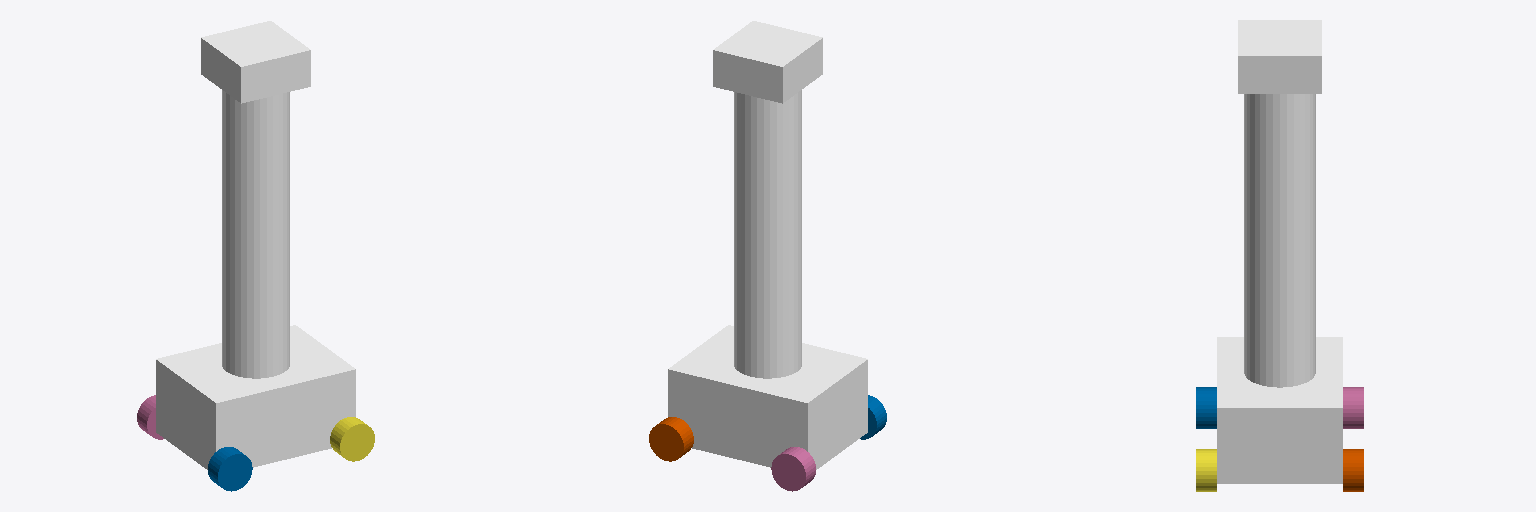
URDF robot description (test_bot):
<?xml version="1.0"?>

<robot name="test_bot">

<!--Materials-->
  <material name="blue">
    <color rgba="0 0 0.8 1"/>
  </material>
  <material name="black">
    <color rgba="0 0 0 1"/>
  </material>
  <material name="white">
    <color rgba="1 1 1 1"/>
  </material>

<!--Base-->
  <link name="base">
    <origin rpy="0 0 0" xyz="0 0 0"/>
    <visual>
      <geometry>
         <box size="0.4 0.3 0.2"/>
      </geometry>
      <origin rpy="0 0 0" xyz="0 0 0.125"/>
      <material name="white"/>
    </visual>
    <collision>
      <geometry>
         <box size="0.4 0.3 0.2"/>
      </geometry>
      <origin rpy="0 0 0" xyz="0 0 0.125"/>
    </collision>
    <inertial>
      <mass value="10"/>
      <inertia ixx="1.0" ixy="0.0" ixz="0.0" iyy="1.0" iyz="0.0" izz="1.0"/>
    </inertial>
  </link>

  <link name="uv_base">
    <origin rpy="0 0 0" xyz="0 0 0"/>
    <visual>
      <geometry>
         <cylinder length="1.0" radius="0.085"/>
      </geometry>
      <origin rpy="0 0 0" xyz="0 0 0"/>
      <material name="white"/>
    </visual>
    <collision>
      <geometry>
         <cylinder length="1.0" radius="0.085"/>
      </geometry>
      <origin rpy="0 0 0" xyz="0 0 0"/>
    </collision>
    <inertial>
      <mass value="10"/>
      <inertia ixx="1.0" ixy="0.0" ixz="0.0" iyy="1.0" iyz="0.0" izz="1.0"/>
    </inertial>
  </link>

  <joint name="uv_base_body" type="fixed">
    <parent link="base"/>
    <child link="uv_base"/>
    <origin rpy="0 0 0" xyz="0 0 0.6"/>
    <axis rpy="0 0 0" xyz="0 1 0"/>
    <dynamics damping="1.0" friction="1.0"/>
    <limit effort="10000" velocity="1000"/>
  </joint>

  <link name="uv_top">
    <origin rpy="0 0 0" xyz="0 0 0"/>
    <visual>
      <geometry>
         <box size="0.2 0.2 0.1"/>
      </geometry>
      <origin rpy="0 0 0" xyz="0 0 0"/>
      <material name="white"/>
    </visual>
    <collision>
      <geometry>
         <box size="0.4 0.3 0.2"/>
      </geometry>
      <origin rpy="0 0 0" xyz="0 0 0"/>
    </collision>
    <inertial>
      <mass value="10"/>
      <inertia ixx="1.0" ixy="0.0" ixz="0.0" iyy="1.0" iyz="0.0" izz="1.0"/>
    </inertial>
  </link>

  <joint name="uv_base_top" type="fixed">
    <parent link="uv_base"/>
    <child link="uv_top"/>
    <origin rpy="0 0 0" xyz="0 0 0.45"/>
    <axis rpy="0 0 0" xyz="0 1 0"/>
    <dynamics damping="1.0" friction="1.0"/>
    <limit effort="10000" velocity="1000"/>
  </joint>

<!--front_right_wheel-->
  <link name="front_right_wheel">
    <visual>
      <geometry>
      <cylinder length="0.05" radius="0.05"/>
      </geometry>
      <origin rpy="1.5707 0 0" xyz="0 0 0"/> 
    </visual>
    <collision>
      <geometry>
      <cylinder length="0.05" radius="0.05"/>
      </geometry>
      <origin rpy="1.5707 0 0" xyz="0 0 0"/> 
    </collision>
    <inertial>
      <mass value="5"/>
      <inertia ixx="0.14" ixy="0.0" ixz="0.0" iyy="0.14" iyz="0.0" izz="0.12"/>
      <origin rpy="1.5707 0 0" xyz="0 0 0"/> 
    </inertial>
  </link>

  <joint name="base_to_front_right_wheel" type="fixed">
    <parent link="base"/>
    <child link="front_right_wheel"/>
    <origin rpy="0 0 0" xyz="0.175 -0.175 0.05"/>
    <axis rpy="0 0 0" xyz="0 1 0"/>
    <dynamics damping="1.0" friction="1.0"/>
    <limit effort="10000" velocity="1000"/>
  </joint>

<!--back_right_wheel-->
  <link name="back_right_wheel">
    <visual>
      <geometry>
      <cylinder length="0.05" radius="0.05"/>
      </geometry>
      <origin rpy="1.5707 0 0" xyz="0 0 0"/> 
    </visual>
    <collision>
      <geometry>
      <cylinder length="0.05" radius="0.05"/>
      </geometry>
      <origin rpy="1.5707 0 0" xyz="0 0 0"/> 
    </collision>
    <inertial>
      <mass value="5"/>
      <inertia ixx="0.14" ixy="0.0" ixz="0.0" iyy="0.14" iyz="0.0" izz="0.12"/>
      <origin rpy="1.5707 0 0" xyz="0 0 0"/> 
    </inertial>
  </link>

  <joint name="base_to_back_right_wheel" type="fixed">
    <parent link="base"/>
    <child link="back_right_wheel"/>
    <origin rpy="0 0 0" xyz="-0.175 -0.175 0.05"/>
    <axis rpy="0 0 0" xyz="0 1 0"/>
    <dynamics damping="1.0" friction="1.0"/>
    <limit effort="10000" velocity="1000"/>
  </joint>

<!--front_left_wheel-->
  <link name="front_left_wheel">
    <visual>
      <geometry>
      <cylinder length="0.05" radius="0.05"/>
      </geometry>
      <origin rpy="1.5707 0 0" xyz="0 0 0"/> 
    </visual>
    <collision>
      <geometry>
      <cylinder length="0.05" radius="0.05"/>
      </geometry>
      <origin rpy="1.5707 0 0" xyz="0 0 0"/> 
    </collision>
    <inertial>
      <mass value="5"/>
      <inertia ixx="0.14" ixy="0.0" ixz="0.0" iyy="0.14" iyz="0.0" izz="0.12"/>
      <origin rpy="1.5707 0 0" xyz="0 0 0"/> 
    </inertial>
  </link>

  <joint name="base_to_front_left_wheel" type="fixed">
    <parent link="base"/>
    <child link="front_left_wheel"/>
    <origin rpy="0 0 0" xyz="0.175 0.175 0.05"/>
    <axis rpy="0 0 0" xyz="0 1 0"/>
    <dynamics damping="1.0" friction="1.0"/>
    <limit effort="10000" velocity="1000"/>
  </joint>

<!--back_left_wheel-->
  <link name="back_left_wheel">
    <visual>
      <geometry>
      <cylinder length="0.05" radius="0.05"/>
      </geometry>
      <origin rpy="1.5707 0 0" xyz="0 0 0"/> 
    </visual>
    <collision>
      <geometry>
      <cylinder length="0.05" radius="0.05"/>
      </geometry>
      <origin rpy="1.5707 0 0" xyz="0 0 0"/> 
    </collision>
    <inertial>
      <mass value="5"/>
      <inertia ixx="0.14" ixy="0.0" ixz="0.0" iyy="0.14" iyz="0.0" izz="0.12"/>
      <origin rpy="1.5707 0 0" xyz="0 0 0"/> 
    </inertial>
  </link>

  <joint name="base_to_back_left_wheel" type="fixed">
    <parent link="base"/>
    <child link="back_left_wheel"/>
    <origin rpy="0 0 0" xyz="-0.175 0.175 0.05"/>
    <axis rpy="0 0 0" xyz="0 1 0"/>
    <dynamics damping="1.0" friction="1.0"/>
    <limit effort="10000" velocity="1000"/>
  </joint>

<!--controller plugin-->
  <gazebo>
    <plugin name="object_controller" filename="libgazebo_ros_planar_move.so">
      <commandTopic>cmd_vel</commandTopic>
      <odometryTopic>odom</odometryTopic>
      <odometryFrame>odom</odometryFrame>
      <odometryRate>20.0</odometryRate>
      <robotBaseFrame>base</robotBaseFrame>
    </plugin>
  </gazebo>

<!--Camera-->
<link name="camera_link">
    <collision>
      <origin xyz="0 0 0" rpy="0 0 0"/>
      <geometry>
       <mesh filename="package://uvd_description/meshes/camera_link.stl"/>
      </geometry>
    </collision>
    <visual>
      <origin xyz="0 0 0" rpy="0 0 0"/>
      <geometry>
       <mesh filename="package://uvd_description/meshes/camera_link.stl"/>
      </geometry>
    </visual>
    <inertial>
      <mass value="1e-5" />
      <origin xyz="0 0 0" rpy="0 0 0"/>
      <inertia ixx="1e-6" ixy="0" ixz="0" iyy="1e-6" iyz="0" izz="1e-6" />
    </inertial>
  </link>
   
  <joint name="camera_joint" type="fixed">
    <parent link="uv_top"/>
    <child link="camera_link"/>
    <axis xyz="0 0 0" />
    <origin xyz="0.105 0 0" rpy="0 0 0"/>
  </joint>

<!--camera plugins-->
  <gazebo reference="camera_link">
    <sensor type="camera" name="camera1">
      <update_rate>30.0</update_rate>
      <camera name="head">
        <horizontal_fov>1.3962634</horizontal_fov>
        <image>
          <width>800</width>
          <height>800</height>
          <format>R8G8B8</format>
        </image>
        <clip>
          <near>0.02</near>
          <far>300</far>
        </clip>
        <noise>
          <type>gaussian</type>
          <!-- Noise is sampled independently per pixel on each frame.
               That pixel's noise value is added to each of its color
               channels, which at that point lie in the range [0,1]. -->
          <mean>0.0</mean>
          <stddev>0.007</stddev>
        </noise>
      </camera>
      <plugin name="camera_controller" filename="libgazebo_ros_camera.so">
        <alwaysOn>true</alwaysOn>
        <updateRate>0.0</updateRate>
        <cameraName>rrbot/camera1</cameraName>
        <imageTopicName>image_raw</imageTopicName>
        <cameraInfoTopicName>camera_info</cameraInfoTopicName>
        <frameName>camera_link</frameName>
        <hackBaseline>0.07</hackBaseline>
        <distortionK1>0.0</distortionK1>
        <distortionK2>0.0</distortionK2>
        <distortionK3>0.0</distortionK3>
        <distortionT1>0.0</distortionT1>
        <distortionT2>0.0</distortionT2>
      </plugin>
    </sensor>
  </gazebo>

<!--intel realsense depth camera-->
  <link name="realsense_link">
    <collision>
      <origin xyz="0 0 0" rpy="0 0 0"/>
      <geometry>
       <mesh filename="package://uvd_description/meshes/realsense_link.stl"/>
      </geometry>
    </collision>
    <visual>
      <origin xyz="0 0 0" rpy="0 0 0"/>
      <geometry>
       <mesh filename="package://uvd_description/meshes/realsense_link.stl"/>
      </geometry>
    </visual>
    <inertial>
      <mass value="1e-5" />
      <origin xyz="0 0 0" rpy="0 0 0"/>
      <inertia ixx="1e-6" ixy="0" ixz="0" iyy="1e-6" iyz="0" izz="1e-6" />
    </inertial>
  </link>

  <joint name="camera_optical_joint" type="fixed">
    <origin xyz="0 0 0.675" rpy="-1.5707 0 -1.5707"/>
    <parent link="base"/>
    <child link="camera_frame_optical"/>
  </joint>
  
  <link name="camera_frame_optical"/>

  <joint name="base_to_depth_camera" type="fixed">
    <parent link="base"/>
    <child link="realsense_link"/>
    <origin xyz="0.0925 0 0.675" rpy="0 0 0"/>
  </joint>

<!--intel realsense depth camera plugin-->
  <gazebo reference="realsense_link">
   <sensor name="realsense" type="depth">
    <update_rate>20</update_rate>
    <camera>
      <horizontal_fov>1.047198</horizontal_fov>
      <image>
        <width>640</width>
        <height>480</height>
        <format>R8G8B8</format>
      </image>
      <clip>
        <near>0.05</near>
        <far>3</far>
      </clip>
    </camera>
    <plugin name="realsense_controller" filename="libgazebo_ros_openni_kinect.so">
      <baseline>0.2</baseline>
      <alwaysOn>true</alwaysOn>
      <updateRate>1.0</updateRate>
      <cameraName>realsense_ir</cameraName>
      <imageTopicName>/realsense/color/image_raw</imageTopicName>
      <cameraInfoTopicName>/realsense/color/camera_info</cameraInfoTopicName>
      <depthImageTopicName>/realsense/depth/image_raw</depthImageTopicName>
      <depthImageInfoTopicName>/realsense/depth/camera_info</depthImageInfoTopicName>
      <pointCloudTopicName>/realsense/depth/points</pointCloudTopicName>
      <frameName>camera_frame_optical</frameName>
      <pointCloudCutoff>0.05</pointCloudCutoff>
      <pointCloudCutoffMax>3</pointCloudCutoffMax>
      <distortionK1>0.00000001</distortionK1>
      <distortionK2>0.00000001</distortionK2>
      <distortionK3>0.00000001</distortionK3>
      <distortionT1>0.00000001</distortionT1>
      <distortionT2>0.00000001</distortionT2>
      <CxPrime>0</CxPrime>
      <Cx>0</Cx>
      <Cy>0</Cy>
      <focalLength>0</focalLength>
      <hackBaseline>0</hackBaseline>
    </plugin>
   </sensor>
  </gazebo>

<!--IMU-->
  <link name="imu_link">
    <collision>
      <origin xyz="0 0 0" rpy="0 0 0"/>
      <geometry>
        <box size="0.05 0.05 0.05"/>
      </geometry>
    </collision>

    <visual>
      <origin xyz="0 0 0" rpy="0 0 0"/>
      <material name="blue"/>
      <geometry>
         <box size="0.05 0.05 0.05"/>
      </geometry>
    </visual>

    <inertial>
      <mass value="1e-5" />
      <origin xyz="0 0 0" rpy="0 0 0"/>
      <inertia ixx="1e-6" ixy="0" ixz="0" iyy="1e-6" iyz="0" izz="1e-6" />
    </inertial>
  </link>

  <joint name="base_to_imu" type="fixed">
    <parent link="base"/>
    <child link="imu_link"/>
    <origin rpy="0 0 0" xyz="0 0 0.08"/>
  </joint>

<!--IMU plugin-->
  <gazebo reference="imu_link">
    <gravity>true</gravity>
    <sensor name="imu_sensor" type="imu">
      <always_on>true</always_on>
      <update_rate>100</update_rate>
      <visualize>true</visualize>
      <topic>__default_topic__</topic>
      <plugin filename="libgazebo_ros_imu_sensor.so" name="imu_plugin">
        <topicName>imu</topicName>
        <bodyName>imu_link</bodyName>
        <updateRateHZ>10.0</updateRateHZ>
        <gaussianNoise>0.0</gaussianNoise>
        <xyzOffset>0 0 0</xyzOffset>
        <rpyOffset>0 0 0</rpyOffset>
        <frameName>imu_link</frameName>
        <initialOrientationAsReference>false</initialOrientationAsReference>
      </plugin>
      <pose>0 0 0 0 0 0</pose>
    </sensor>
  </gazebo>

</robot>

--- Facts derived from the render (not from the file) ---
Views: 3 orthographic renders of the robot side by side, from view 1: azimuth 30°, elevation 25°; view 2: azimuth 150°, elevation 25°; view 3: azimuth 270°, elevation 25°.
Robot: test_bot — 11 links, 10 joints (10 fixed); root link base; default pose: every joint at zero.
Links seen in each view (by area): view 1: uv_base, base, uv_top, front_right_wheel, back_right_wheel, back_left_wheel; view 2: uv_base, base, uv_top, front_left_wheel, back_left_wheel, back_right_wheel; view 3: uv_base, base, uv_top, front_right_wheel, front_left_wheel, back_right_wheel, back_left_wheel.
Boxes of the visible links, bbox=[...] form: uv_base: bbox=[222, 29, 289, 378]; base: bbox=[156, 325, 355, 469]; uv_top: bbox=[201, 21, 310, 103]; front_right_wheel: bbox=[330, 417, 374, 461]; back_right_wheel: bbox=[208, 447, 252, 491]; back_left_wheel: bbox=[137, 395, 163, 439]; uv_base: bbox=[734, 29, 801, 378]; base: bbox=[668, 325, 867, 469]; uv_top: bbox=[713, 21, 822, 103]; front_left_wheel: bbox=[649, 417, 693, 461]; back_left_wheel: bbox=[771, 447, 815, 491]; back_right_wheel: bbox=[860, 395, 886, 439]; uv_base: bbox=[1244, 23, 1315, 387]; base: bbox=[1217, 337, 1342, 483]; uv_top: bbox=[1238, 20, 1321, 93]; front_right_wheel: bbox=[1196, 449, 1216, 491]; front_left_wheel: bbox=[1343, 449, 1363, 491]; back_right_wheel: bbox=[1196, 387, 1216, 428]; back_left_wheel: bbox=[1343, 387, 1363, 428].
Bounding box of the posed robot: 0.45 × 0.4 × 1.1 m (x, y, z).
Meshes: 2 distinct files referenced, 0 mesh visuals loaded (none loaded); not drawn: 2 (reference not matched to a file when rendering).